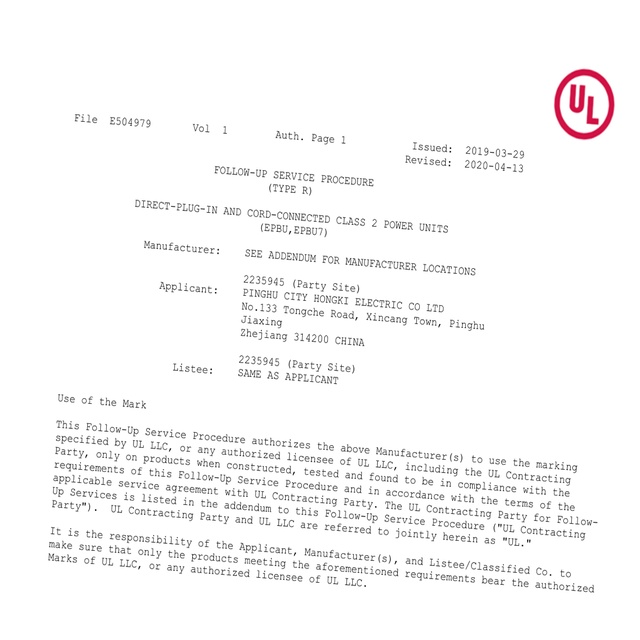ul: (553, 68, 614, 140)
